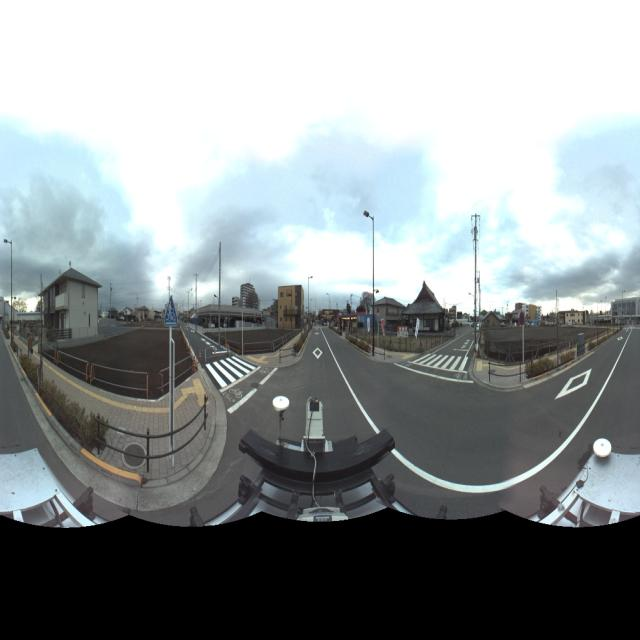b_1: (42, 258, 104, 354), (407, 274, 449, 344), (369, 293, 405, 343), (277, 279, 306, 339), (608, 292, 640, 327), (231, 277, 259, 315), (557, 306, 590, 330)
